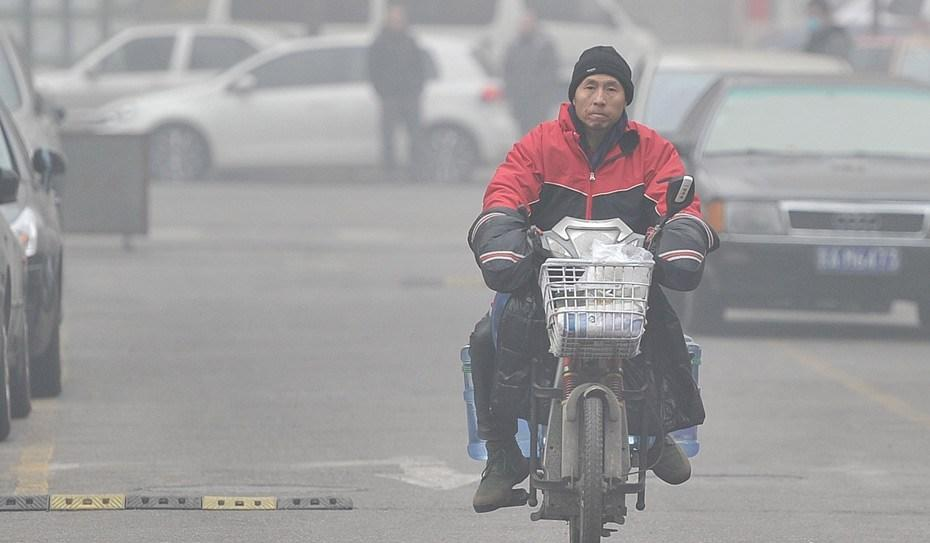car: (663, 68, 930, 336), (90, 26, 523, 185), (615, 47, 870, 300), (28, 21, 308, 156), (384, 1, 659, 94), (1, 103, 68, 400)
motorbike: (464, 207, 718, 543)
person: (463, 41, 721, 522), (366, 5, 426, 185), (502, 11, 559, 182), (800, 1, 855, 145)
